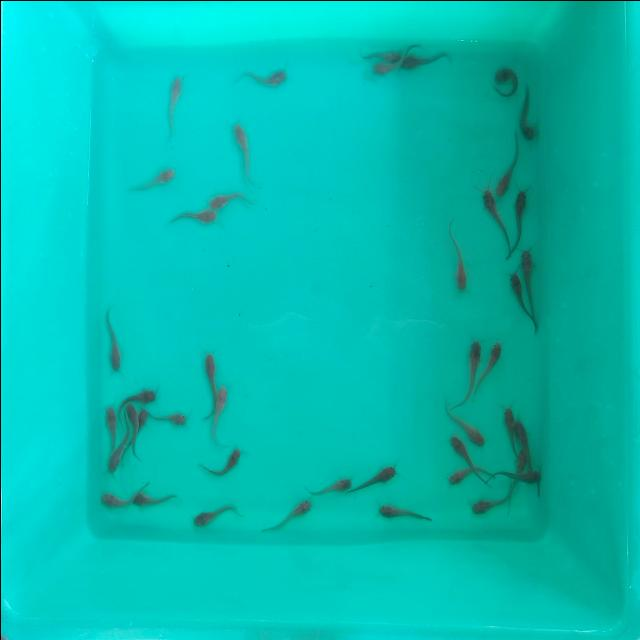lele: (258, 494, 312, 536), (341, 462, 397, 498), (479, 188, 512, 248), (129, 163, 179, 195), (496, 144, 523, 198), (201, 446, 243, 480), (304, 475, 354, 501), (191, 500, 233, 528), (103, 307, 121, 372), (480, 339, 504, 387), (379, 504, 435, 524), (163, 208, 213, 230), (510, 188, 528, 248), (449, 232, 467, 291), (398, 48, 446, 70), (164, 75, 182, 133), (467, 492, 510, 516), (232, 125, 250, 179), (205, 188, 249, 210), (522, 251, 538, 311), (201, 352, 215, 420), (508, 269, 524, 326), (458, 414, 486, 446), (446, 434, 474, 466), (491, 66, 518, 98), (213, 386, 228, 442), (465, 339, 481, 389), (447, 468, 491, 486), (520, 85, 534, 141), (132, 489, 176, 505), (492, 469, 541, 483), (126, 403, 138, 458), (145, 408, 186, 424), (106, 441, 125, 475), (118, 388, 157, 404), (242, 70, 286, 84), (98, 492, 132, 509), (502, 406, 514, 448), (360, 49, 400, 61), (104, 406, 116, 446), (513, 420, 530, 448), (512, 452, 524, 490), (371, 62, 399, 76), (137, 407, 147, 443)
